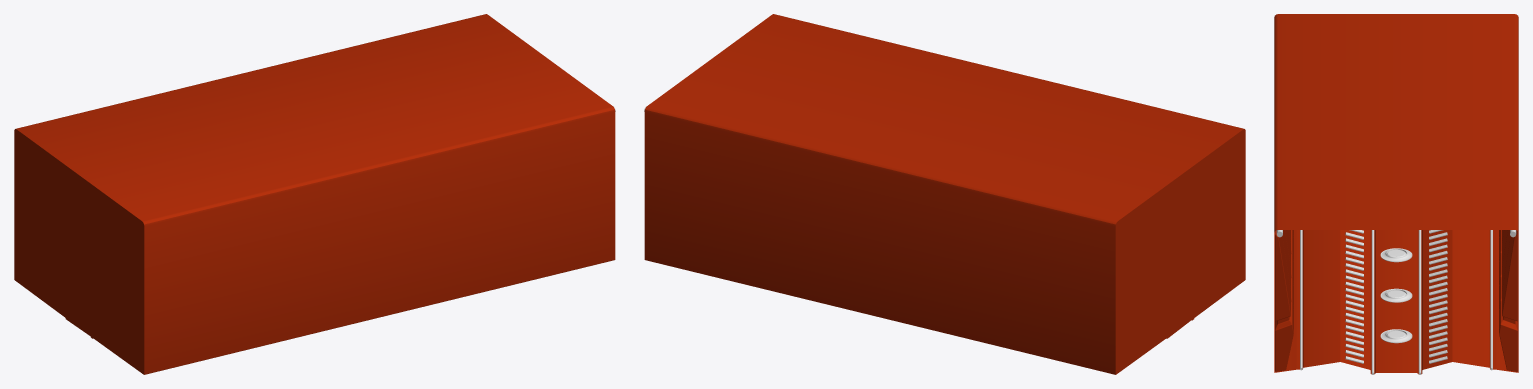
The model's file is ExportedBlenderFBXFile.fbx.
3 views of the same model, side by side, from view 1: azimuth 30°, elevation 25°; view 2: azimuth 150°, elevation 25°; view 3: azimuth 270°, elevation 25° (orthographic). The views are drawn at different scales.
Parts seen in each view (by area): view 1: Plane; view 2: Plane; view 3: Plane, Cube.004, Cube.009, Cylinder.001, Cylinder, Cylinder.002.
Boxes of the visible parts, x1=… form: Plane: x1=14, y1=14, x2=615, y2=374; Plane: x1=644, y1=14, x2=1245, y2=374; Plane: x1=1274, y1=14, x2=1518, y2=374; Cube.004: x1=1275, y1=230, x2=1517, y2=371; Cube.009: x1=1345, y1=230, x2=1447, y2=363; Cylinder.001: x1=1371, y1=230, x2=1421, y2=374; Cylinder: x1=1380, y1=248, x2=1412, y2=343; Cylinder.002: x1=1300, y1=230, x2=1492, y2=370.
Bounding box in the file's own units: 92.29 × 28.69 × 44.
